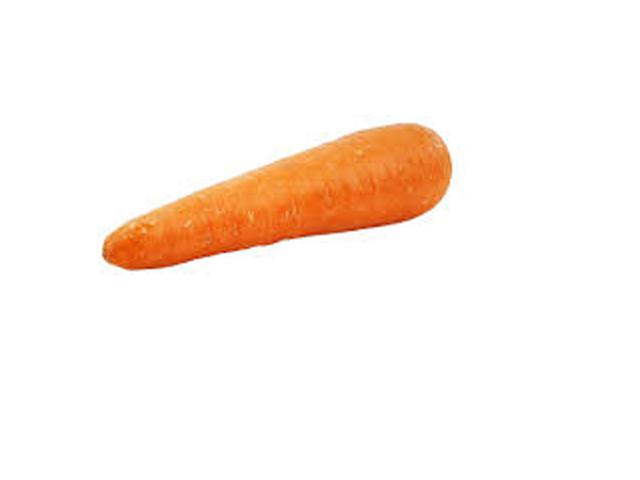carrot: (76, 119, 462, 283)
